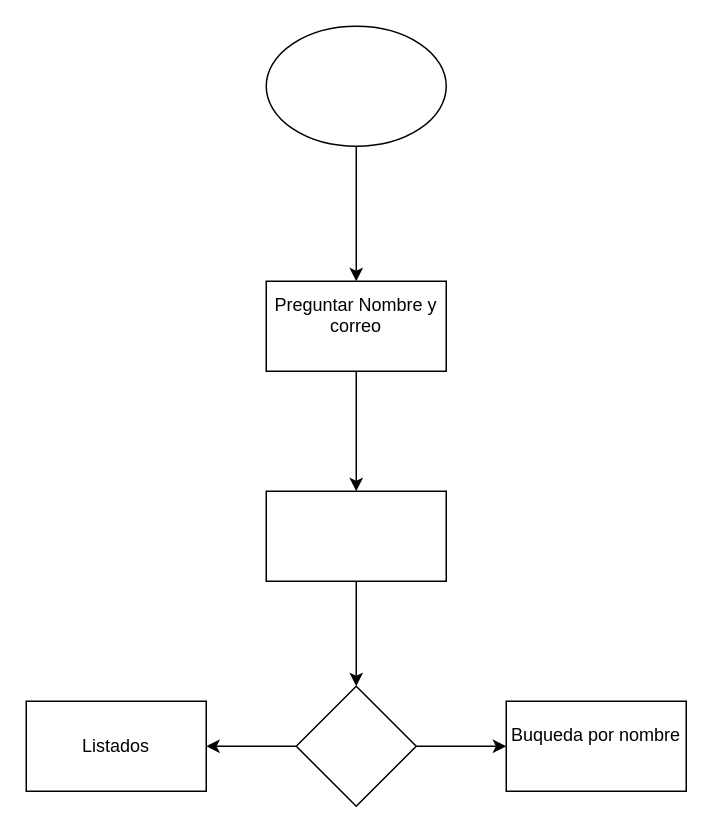
The diagram is 713 pixels wide and 833 high, and some of its shapes have lost their labels. The box of each missing label's shape, as (x1, y1, x2, y2) in pixels:
Inicio: (265, 25, 446, 146)
Sistema de Cotizacion: (265, 490, 446, 581)
